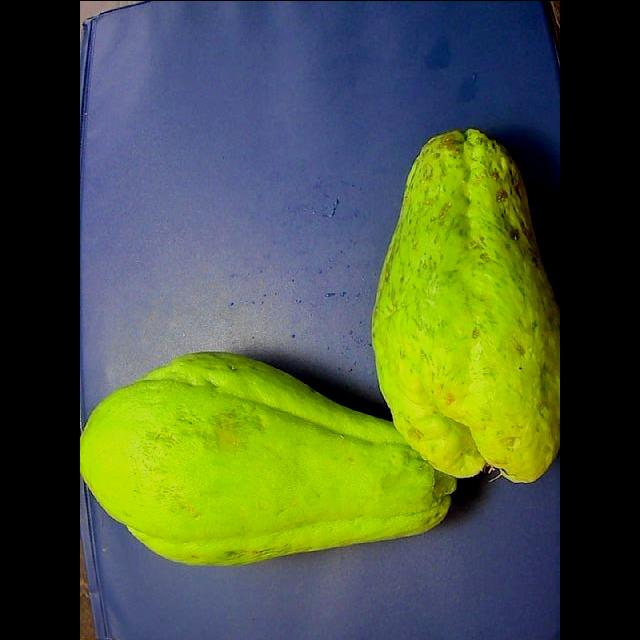chayote: (80, 353, 456, 564), (372, 129, 559, 482)
